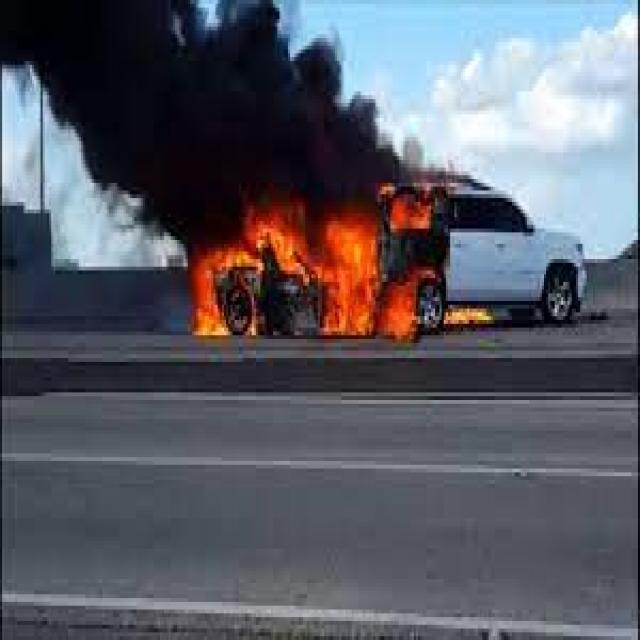fire: (179, 206, 425, 354)
smoke: (2, 4, 397, 206), (79, 168, 186, 270)
